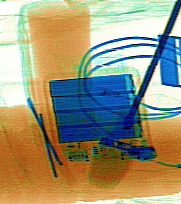powerbank: (44, 64, 158, 164)
